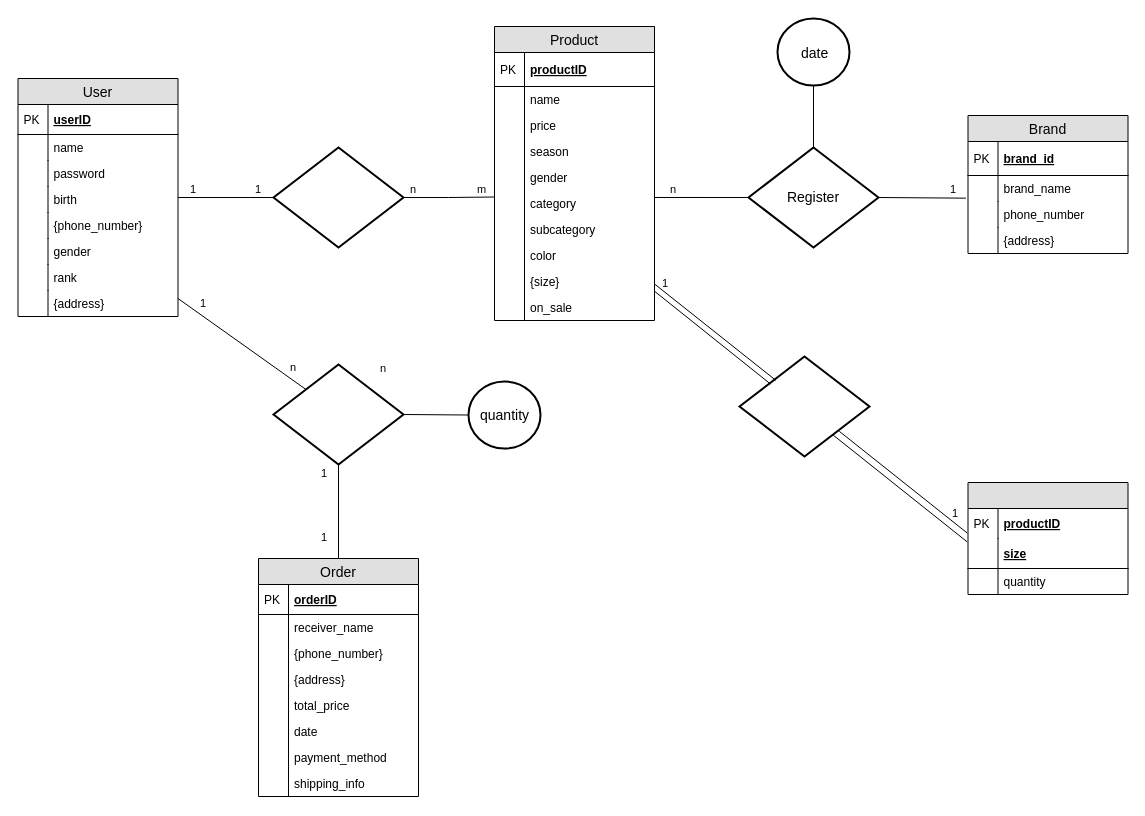
Some shapes in this 1145 by 816 pixel diagram are drawn without their labels. The shapes that lost their labels are listed below. From the top down, each one's box as (x1, y1, x2, y2) in pixels, then its label:
(272, 146, 404, 248): Cart
(272, 363, 404, 465): purchase_info
(738, 355, 870, 457): prod_stock
(967, 482, 1128, 594): Stock
